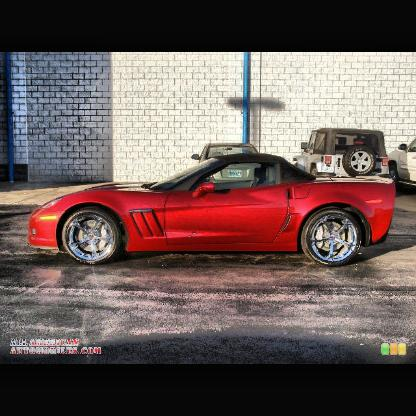Chevrolet Corvette Convertible 2012: (28, 154, 398, 267)
